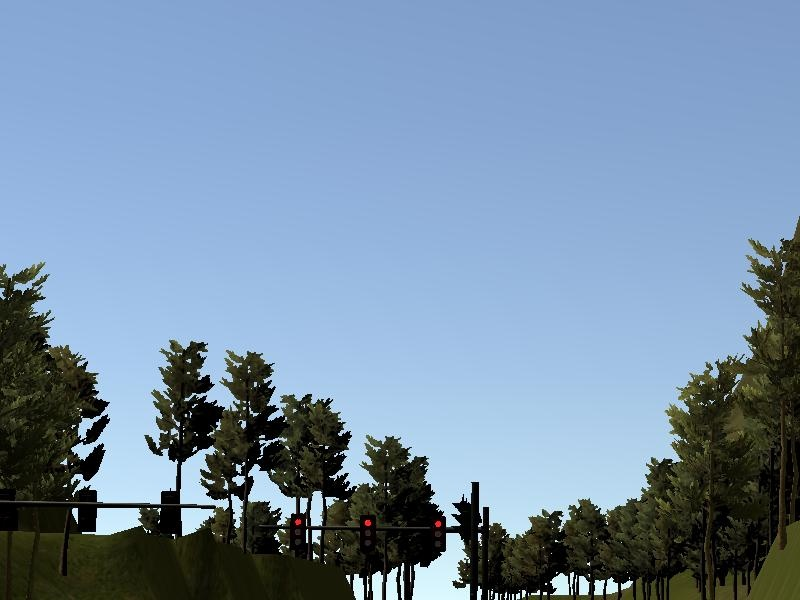traffic_light_red: (283, 515, 462, 553)
